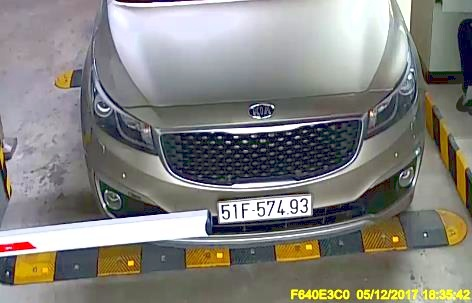plate: (215, 195, 315, 222)
